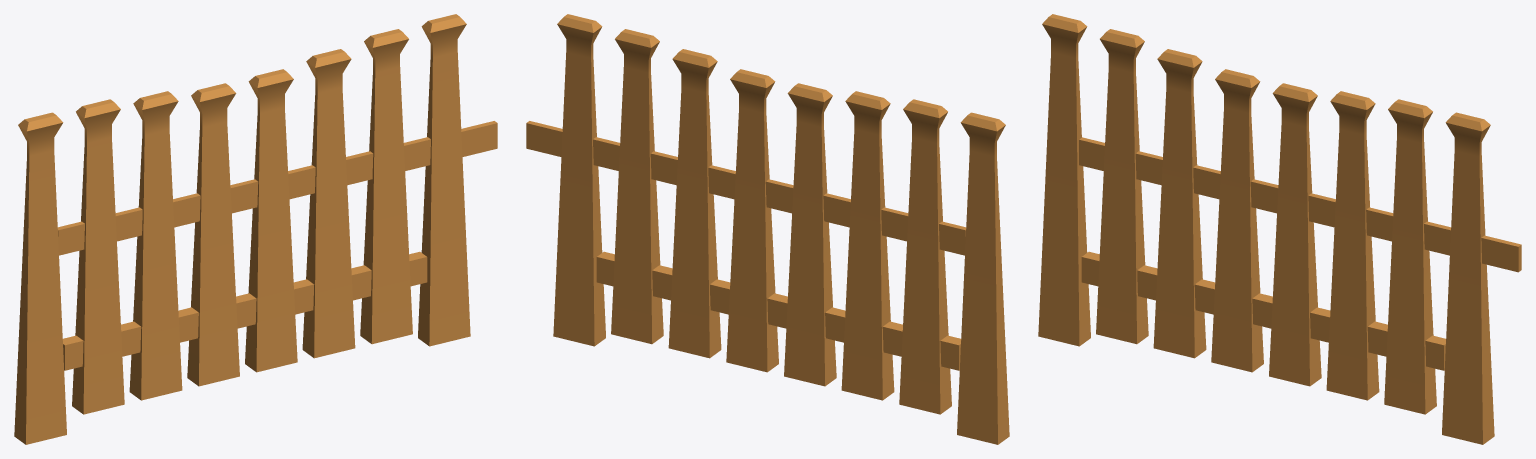
File: Fence_2.fbx
3 views of the same model, side by side, from view 1: azimuth 30°, elevation 25°; view 2: azimuth 150°, elevation 25°; view 3: azimuth 330°, elevation 25° (orthographic).
Visible parts, largest first — view 1: Fence_3; view 2: Fence_3; view 3: Fence_3.
Boxes of the visible parts, left/top/right/bottom form: Fence_3: left=14, top=14, right=497, bottom=444; Fence_3: left=526, top=14, right=1009, bottom=444; Fence_3: left=1038, top=14, right=1521, bottom=444.
Size of the model in its own units: 119 by 76.28 by 5.04.
